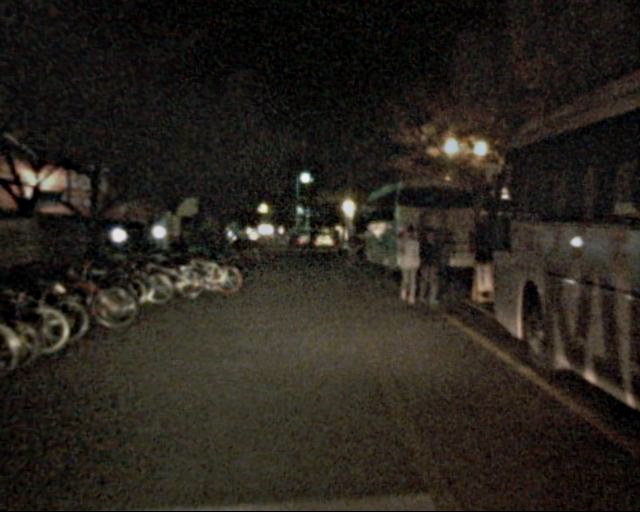person: (388, 225, 422, 307), (411, 230, 443, 307), (338, 224, 359, 275)
